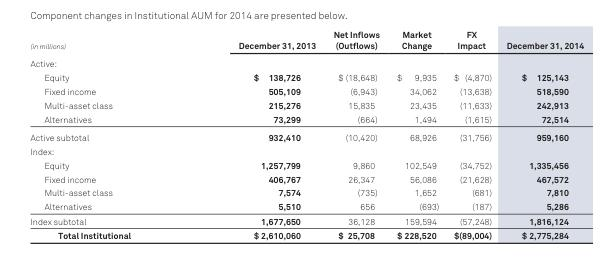table: (29, 28, 583, 240)
table column: (29, 28, 183, 240), (183, 28, 323, 240), (498, 28, 583, 240), (323, 28, 387, 240), (387, 28, 445, 240), (445, 28, 498, 240)
table column header: (29, 28, 583, 54)
table projected row header: (29, 54, 583, 70), (29, 144, 583, 157)
table row: (29, 28, 583, 54), (29, 127, 583, 144), (29, 54, 583, 70), (29, 112, 583, 127), (29, 213, 583, 228), (29, 70, 583, 84), (29, 84, 583, 98), (29, 98, 583, 112), (29, 157, 583, 171), (29, 171, 583, 185), (29, 185, 583, 199), (29, 199, 583, 213), (29, 144, 583, 157), (29, 228, 583, 240)
